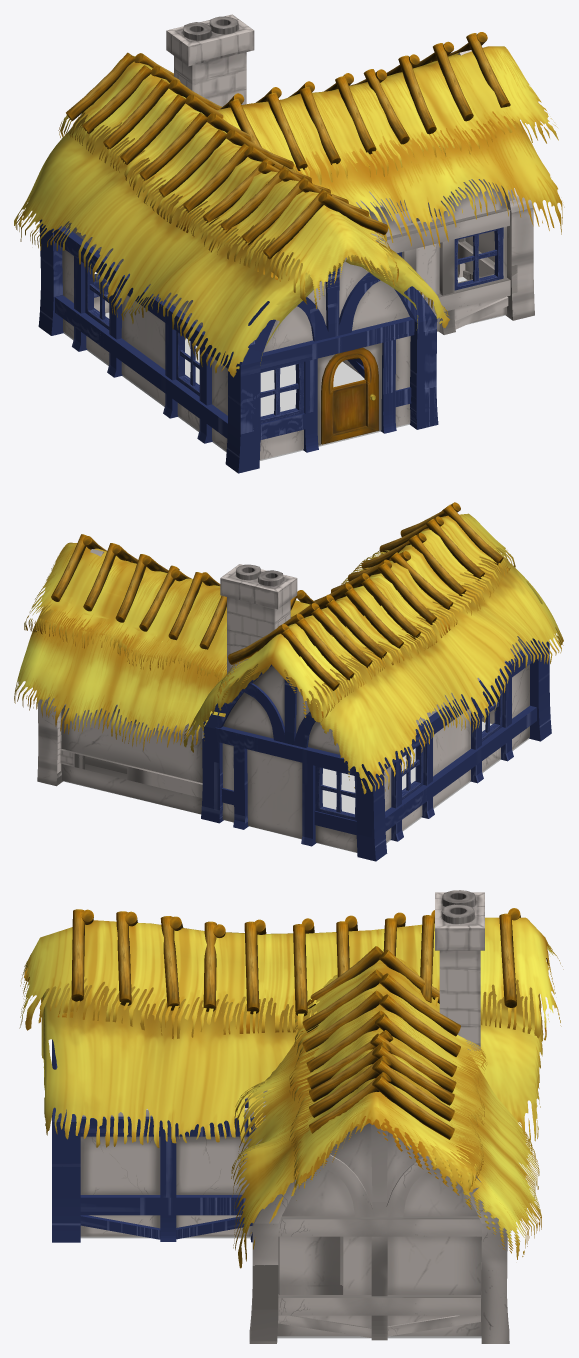
File: Casa_GoldeSun3.fbx
The picture shows the model from 3 angles, top to bottom: view 1: azimuth 30°, elevation 25°; view 2: azimuth 150°, elevation 25°; view 3: azimuth 270°, elevation 25°; orthographic projection. The views are drawn at different scales.
Parts seen in each view (by area): view 1: Cilindro.020, Cilindro.004, Cubo.005, Cubo.041, Cubo.050, Cubo.025, Cubo.030, Cubo.053, Cubo.049, Cubo.043, Cubo.048, Cubo (+5 smaller); view 2: Cilindro.020, Cilindro.004, Cubo.036, Cubo.054, Cubo.056, Cubo.041, Cubo.025, Cubo.053, Cubo.047, Cubo.043, Cubo, Cubo.005 (+2 smaller); view 3: Cilindro.020, Cilindro.004, Cubo.043, Cubo.058, Cubo.059, Cubo.045, Cubo.025, Cubo.005, Cubo.
Part boxes in pixels (x1,y1,x2,y2): Cilindro.020: (14,52,449,377); Cilindro.004: (217,32,564,248); Cubo.005: (225,268,438,473); Cubo.041: (54,226,228,443); Cubo.050: (260,257,410,459); Cubo.025: (166,14,254,106); Cubo.030: (376,208,510,334); Cubo.053: (62,221,227,450); Cubo.049: (321,347,378,444); Cubo.043: (411,50,534,320); Cubo.048: (360,179,507,331); Cubo: (63,277,505,460); Cilindro.020: (183,502,563,794); Cilindro.004: (14,534,315,750); Cubo.036: (201,664,387,861); Cubo.054: (222,665,357,852); Cubo.056: (62,705,204,814); Cubo.041: (384,644,536,841); Cubo.025: (220,564,297,674); Cubo.053: (384,636,529,841); Cubo.047: (60,704,203,797); Cubo.043: (37,549,104,786); Cubo: (63,721,529,852); Cubo.005: (490,638,551,741); Cilindro.020: (19,908,563,1147); Cilindro.004: (231,946,541,1268); Cubo.043: (249,1124,509,1343); Cubo.058: (277,1123,481,1336); Cubo.059: (80,1108,253,1236); Cubo.045: (75,1116,256,1242); Cubo.025: (435,890,484,1050); Cubo.005: (52,1039,80,1242); Cubo: (80,1236,481,1338).
Size of the model in its own units: 1094 by 637 by 1013.
